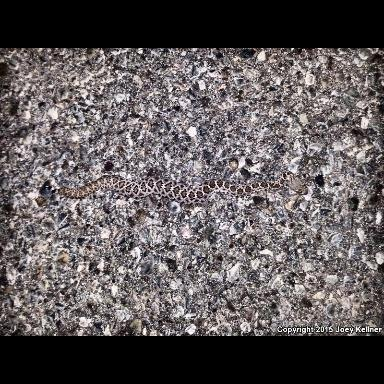snake: (54, 176, 312, 214)
